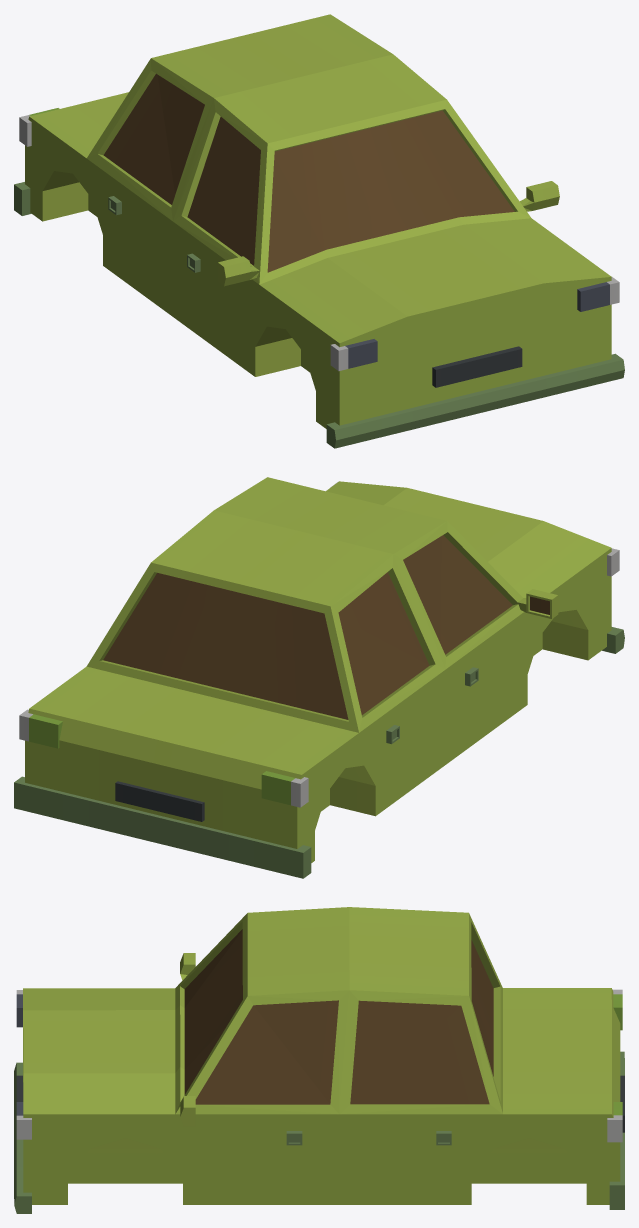
Rendered from Car_17.fbx.
3 renders of one model, top to bottom at view 1: azimuth 30°, elevation 25°; view 2: azimuth 150°, elevation 25°; view 3: azimuth 270°, elevation 25°, orthographic. The views are drawn at different scales.
Parts seen in each view (by area): view 1: Car_17; view 2: Car_17; view 3: Car_17.
Part boxes in pixels (<box>): Car_17: <box>14,14,624,448</box>; Car_17: <box>14,477,624,878</box>; Car_17: <box>14,907,624,1213</box>.
Size of the model in its own units: 1.97 by 1.17 by 3.28.
